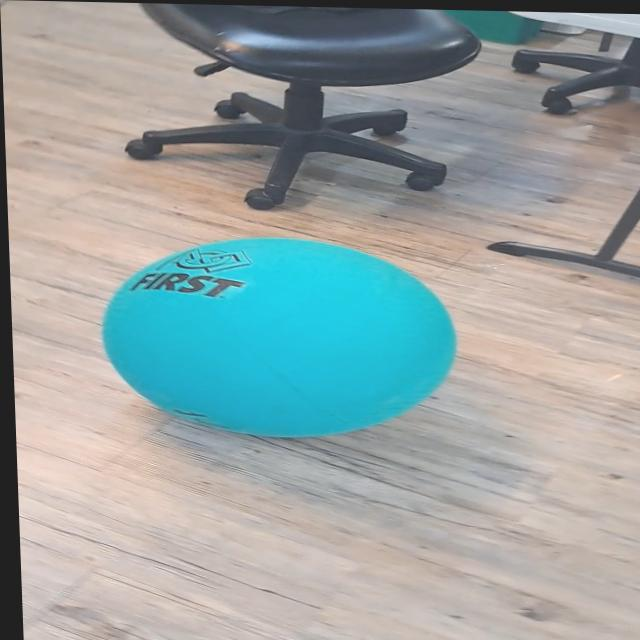ALGAE: (95, 231, 462, 443)
